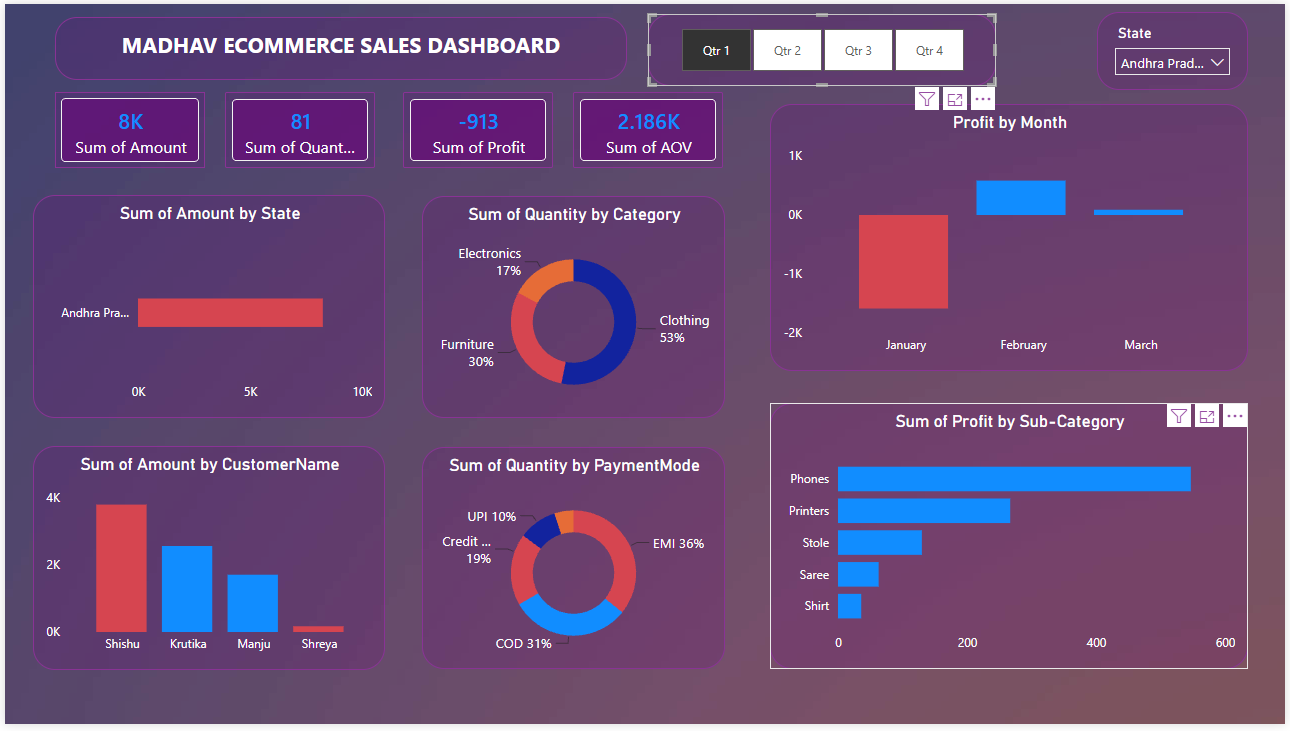

What the dashboard file says about the page in this screenshot:
{"tool":"powerbi","page":{"name":"Page 1","canvas":[1280,720],"ordinal":0},"visuals":[{"type":"textbox","box":[50,13.3,571.9,62.2],"z":0},{"type":"columnChart","title":"Profit by Month","fields":{"Y":["Sum(Details.Profit)"],"Category":["Orders.Order Date.Variation.Date Hierarchy.Month"]},"box":[765.5,100.2,477.6,266.5],"z":1000},{"type":"barChart","fields":{"Category":["Details.Sub-Category"],"Y":["Sum(Details.Profit)"]},"box":[765.5,398.8,477.6,266.5],"z":2000},{"type":"donutChart","fields":{"Category":["Details.Category"],"Y":["Sum(Details.Quantity)"]},"box":[417.3,191.6,302.5,222.7],"z":3000},{"type":"donutChart","fields":{"Y":["Sum(Details.Quantity)"],"Category":["Details.PaymentMode"]},"box":[417.3,442.6,302.5,222.7],"z":4000},{"type":"cardVisual","fields":{"Data":["Sum(Details.Amount)"]},"box":[50,87.8,150,76],"z":5000},{"type":"cardVisual","fields":{"Data":["Sum(Details.Quantity)"]},"box":[220,87.8,150,76],"z":6000},{"type":"cardVisual","fields":{"Data":["Sum(Details.Profit)"]},"box":[397.8,87.8,150,76],"z":7000},{"type":"cardVisual","fields":{"Data":["Sum(Details.AOV)"]},"box":[567.8,87.8,150,76],"z":8000},{"type":"columnChart","fields":{"Category":["Orders.CustomerName"],"Y":["Sum(Details.Amount)"]},"box":[27.8,442.2,352.2,223.3],"z":9000},{"type":"barChart","fields":{"Y":["Sum(Details.Amount)"],"Category":["Orders.State"]},"box":[27.8,191.1,352.2,223.3],"z":10000},{"type":"slicer","fields":{"Values":["Orders.Order Date.Variation.Date Hierarchy.Quarter"]},"box":[643.3,10,347.8,72.2],"z":11000},{"type":"slicer","fields":{"Values":["Orders.State"]},"box":[1092.2,7.8,151.1,77.8],"z":12000}]}

Visuals, with their boxes in screenshot pixels (x1, y1, x2, y2), scaled from the page's 1280x720 canvas onto the 1290x731 screenshot:
textbox: box(50, 14, 627, 77)
"Profit by Month" columnChart: box(771, 102, 1253, 372)
barChart - Details.Sub-Category x Sum(Details.Profit): box(771, 405, 1253, 675)
donutChart - Details.Category x Sum(Details.Quantity): box(421, 195, 725, 421)
donutChart - Sum(Details.Quantity) x Details.PaymentMode: box(421, 449, 725, 675)
cardVisual - Sum(Details.Amount): box(50, 89, 202, 166)
cardVisual - Sum(Details.Quantity): box(222, 89, 373, 166)
cardVisual - Sum(Details.Profit): box(401, 89, 552, 166)
cardVisual - Sum(Details.AOV): box(572, 89, 723, 166)
columnChart - Orders.CustomerName x Sum(Details.Amount): box(28, 449, 383, 676)
barChart - Sum(Details.Amount) x Orders.State: box(28, 194, 383, 421)
slicer - Orders.Order Date.Variation.Date Hierarchy.Quarter: box(648, 10, 999, 83)
slicer - Orders.State: box(1101, 8, 1253, 87)
